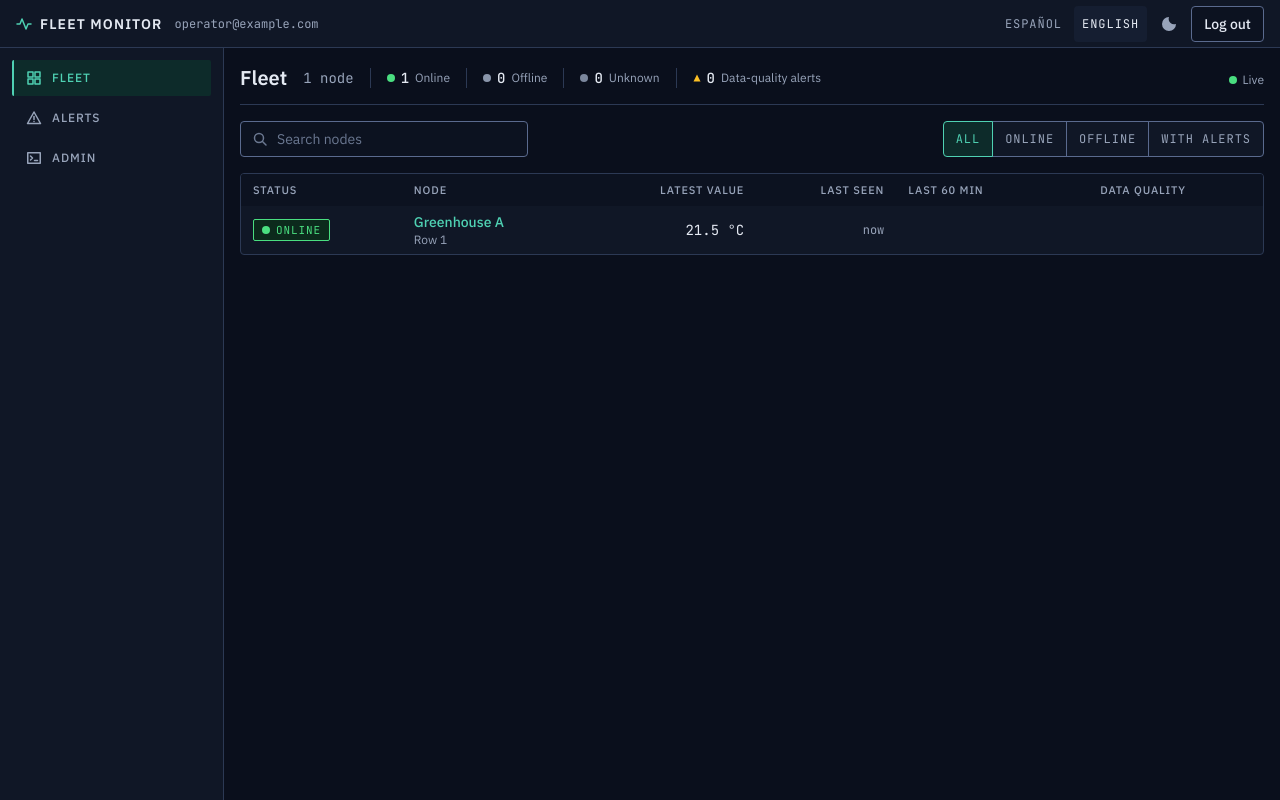
Test: Realtime across route changes › keeps delivering live readings after navigating Fleet -> Node -> Fleet
Expected: the text "21.5 °C" is shown, [685, 221, 744, 239]
Click the link "Greenhouse A" at (459, 222), box [414, 212, 504, 232]
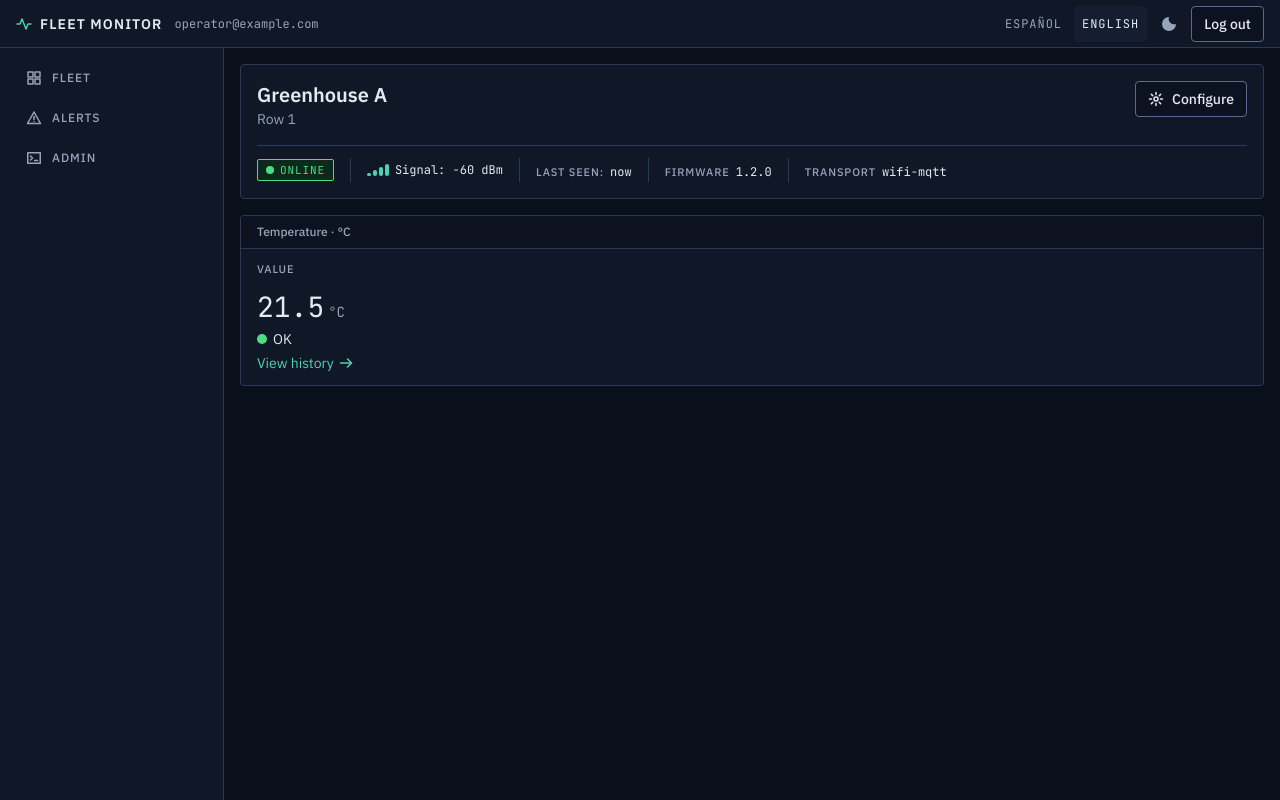
Now the heading "Greenhouse A" is shown, box [257, 81, 387, 109]
Click the link "Fleet" at (58, 78), box [26, 70, 91, 86]
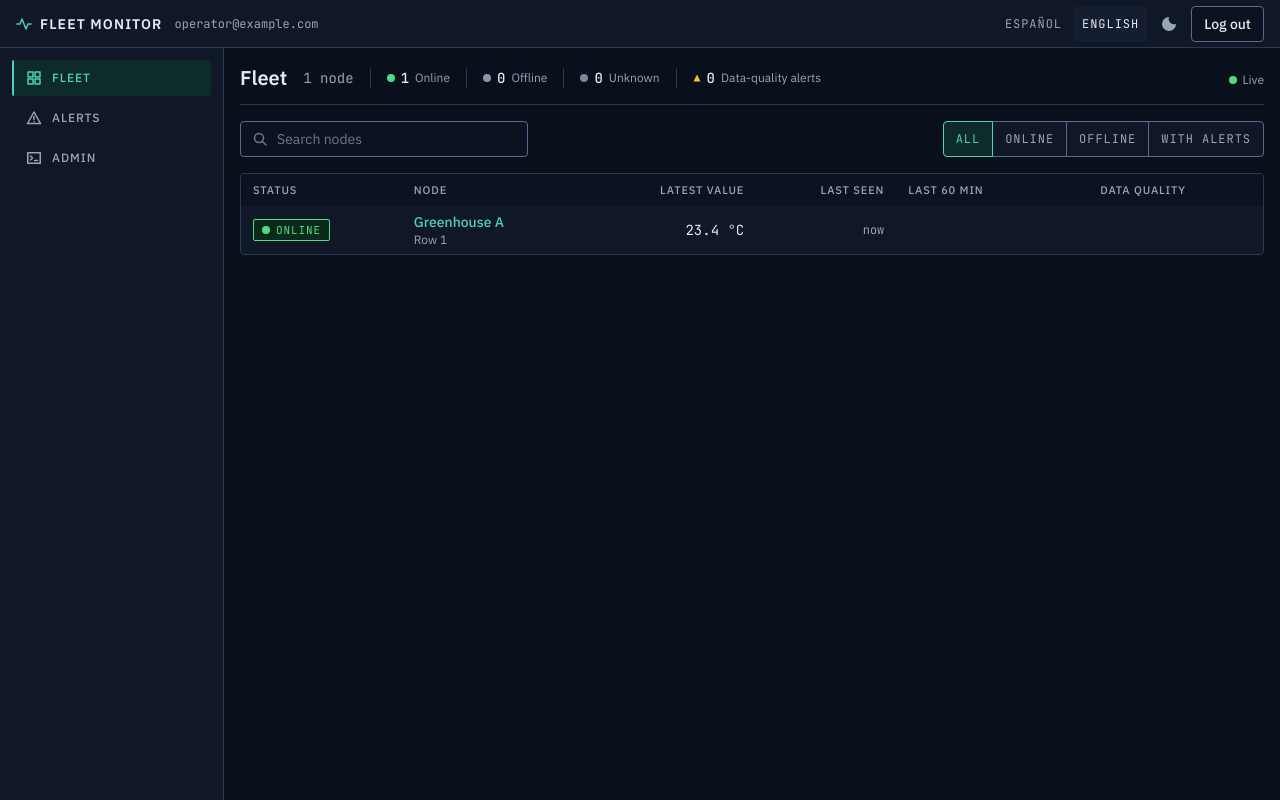
Expected: the link "Greenhouse A" is shown, [414, 212, 504, 232]
Now the text "23.4 °C" is shown, box [685, 221, 744, 239]
